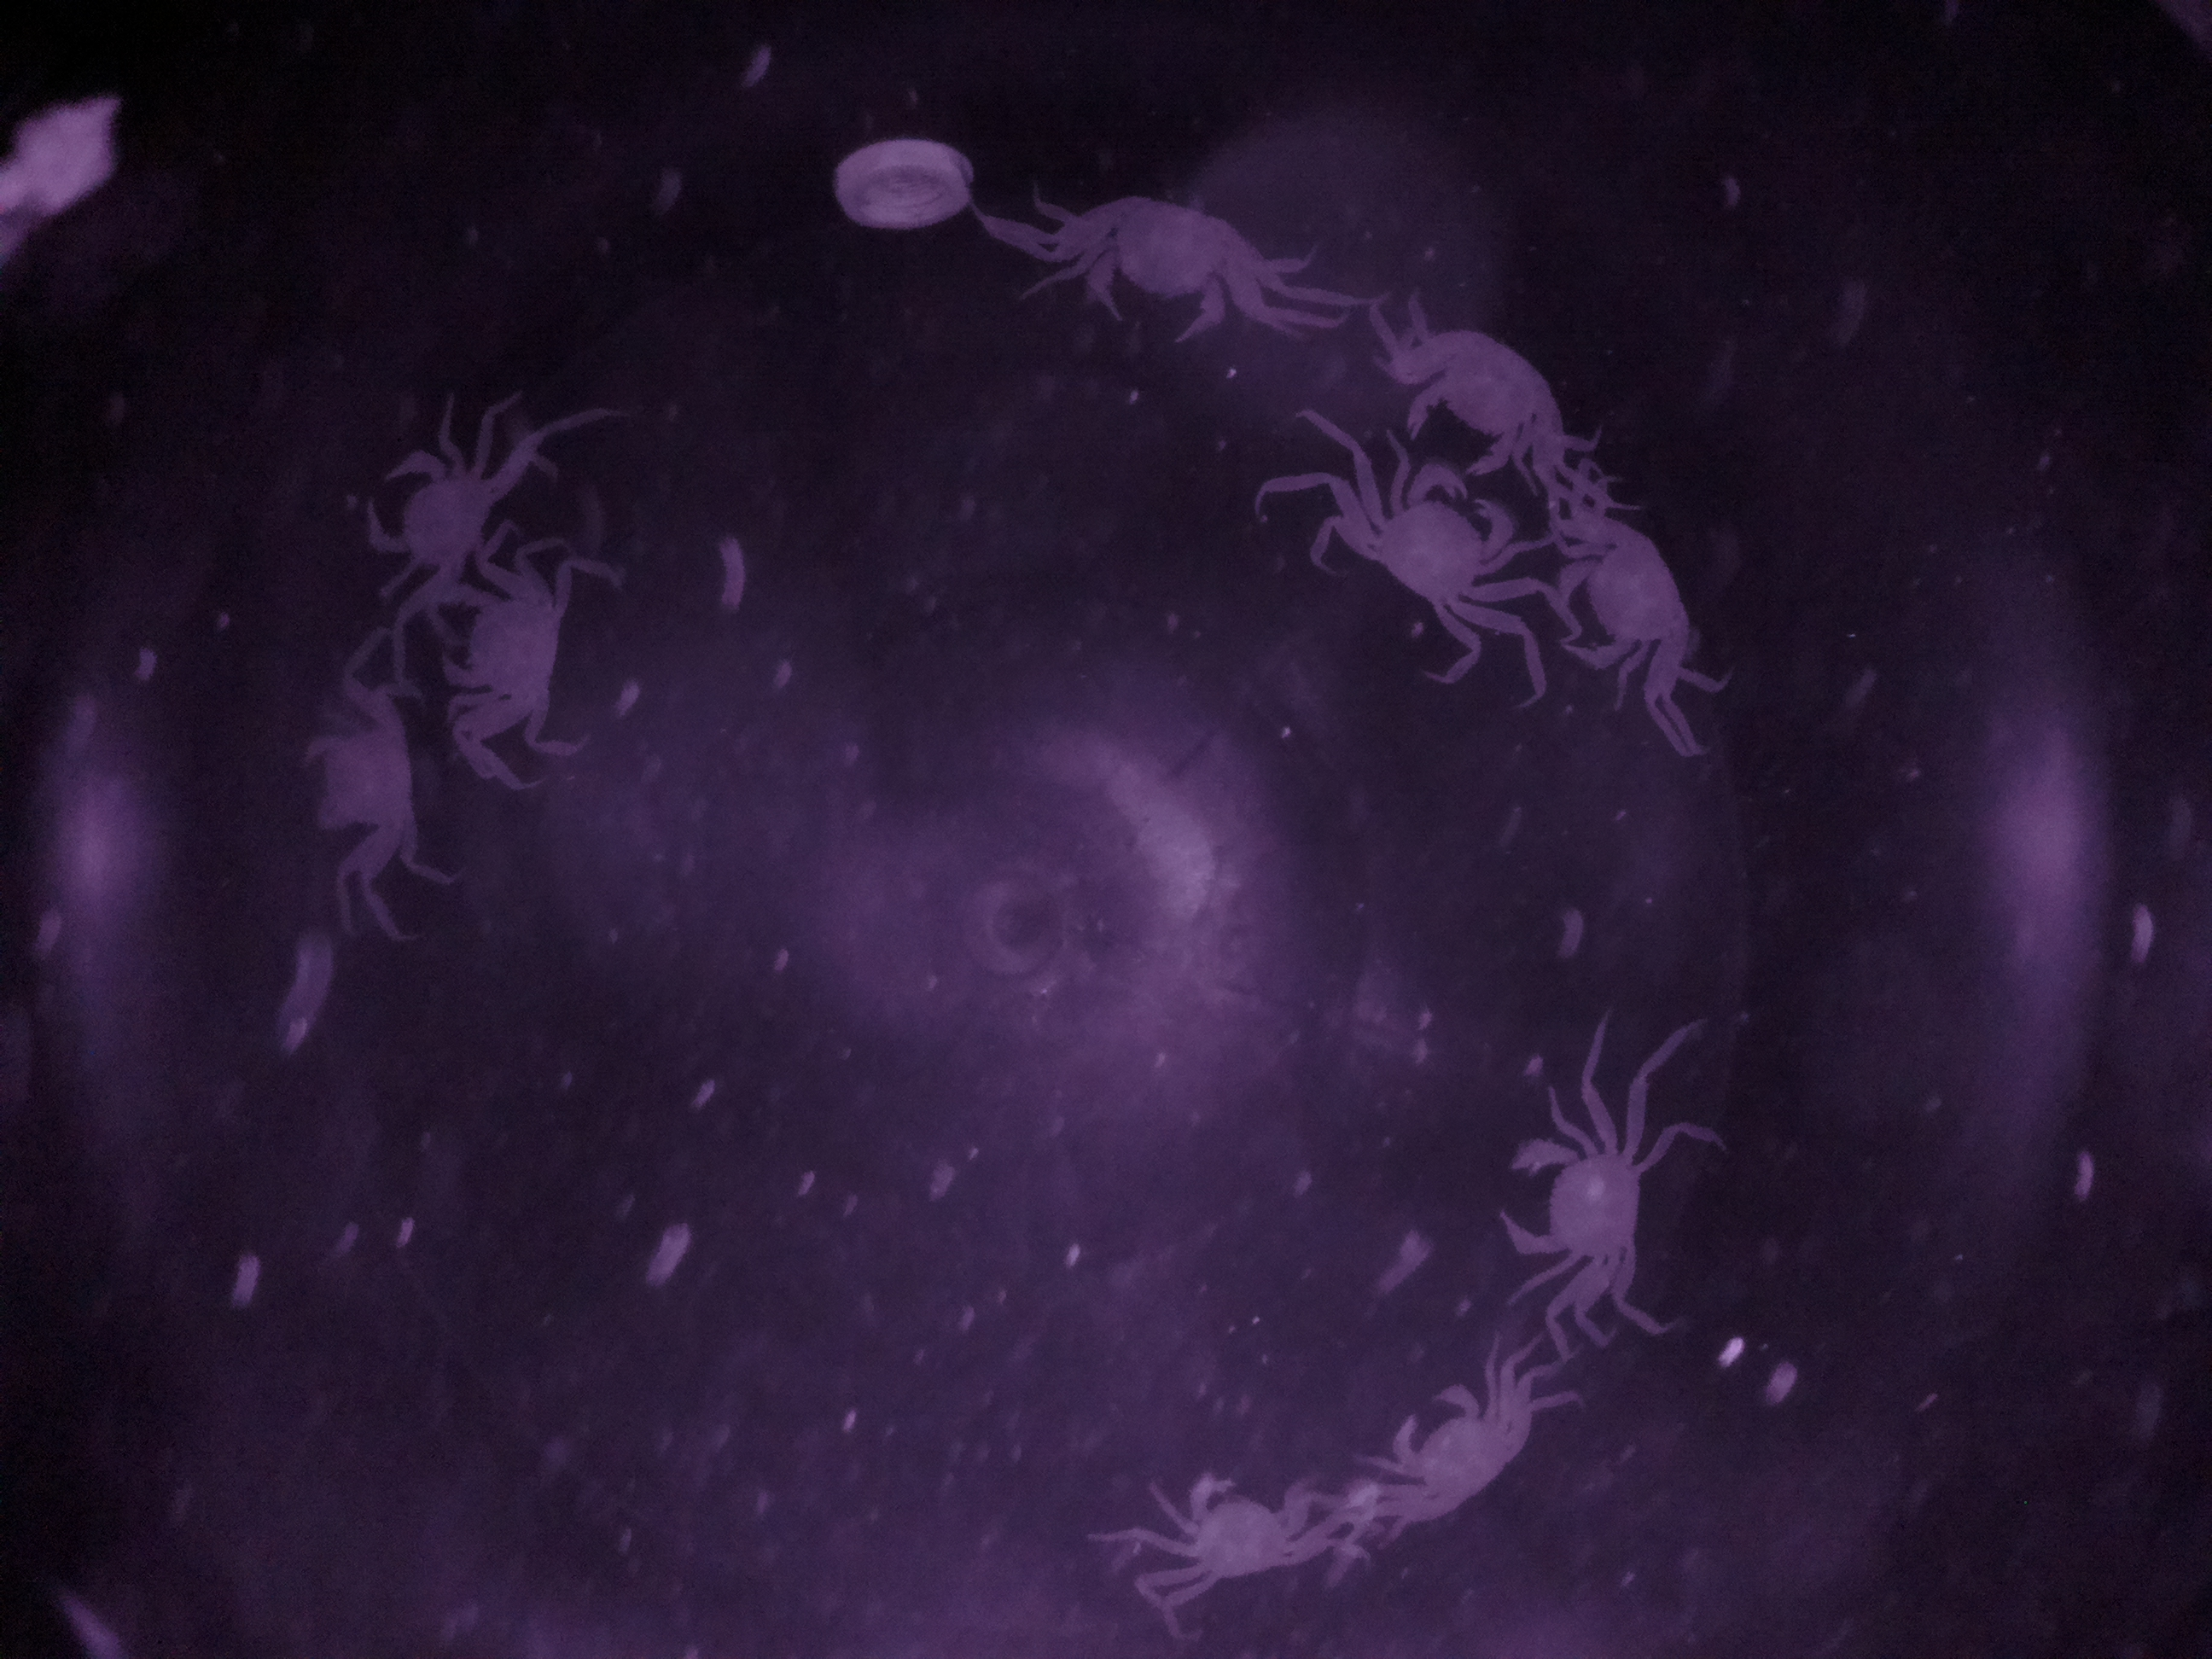Crab: (1047, 185, 1292, 361), (1388, 282, 1583, 484), (1479, 1119, 1676, 1303), (1536, 505, 1716, 702), (1343, 457, 1519, 648), (432, 551, 592, 732), (343, 432, 509, 603), (1366, 1371, 1536, 1528), (1155, 1439, 1315, 1598)
